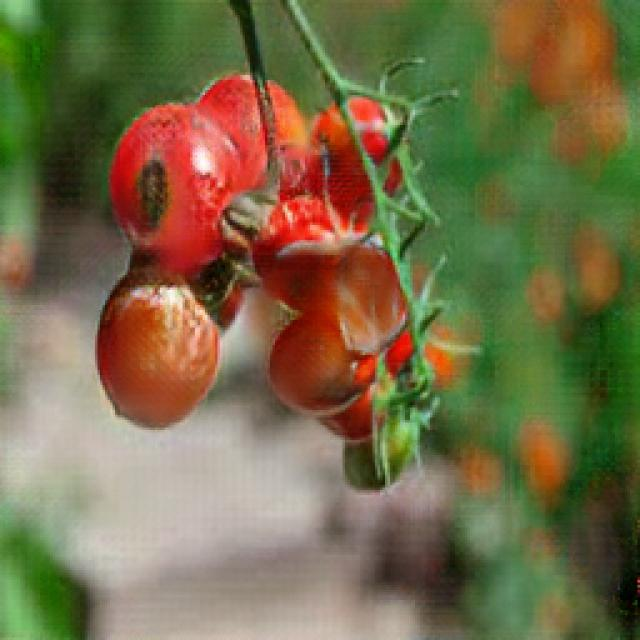overripe tomato: (104, 98, 246, 268), (94, 272, 222, 438)
